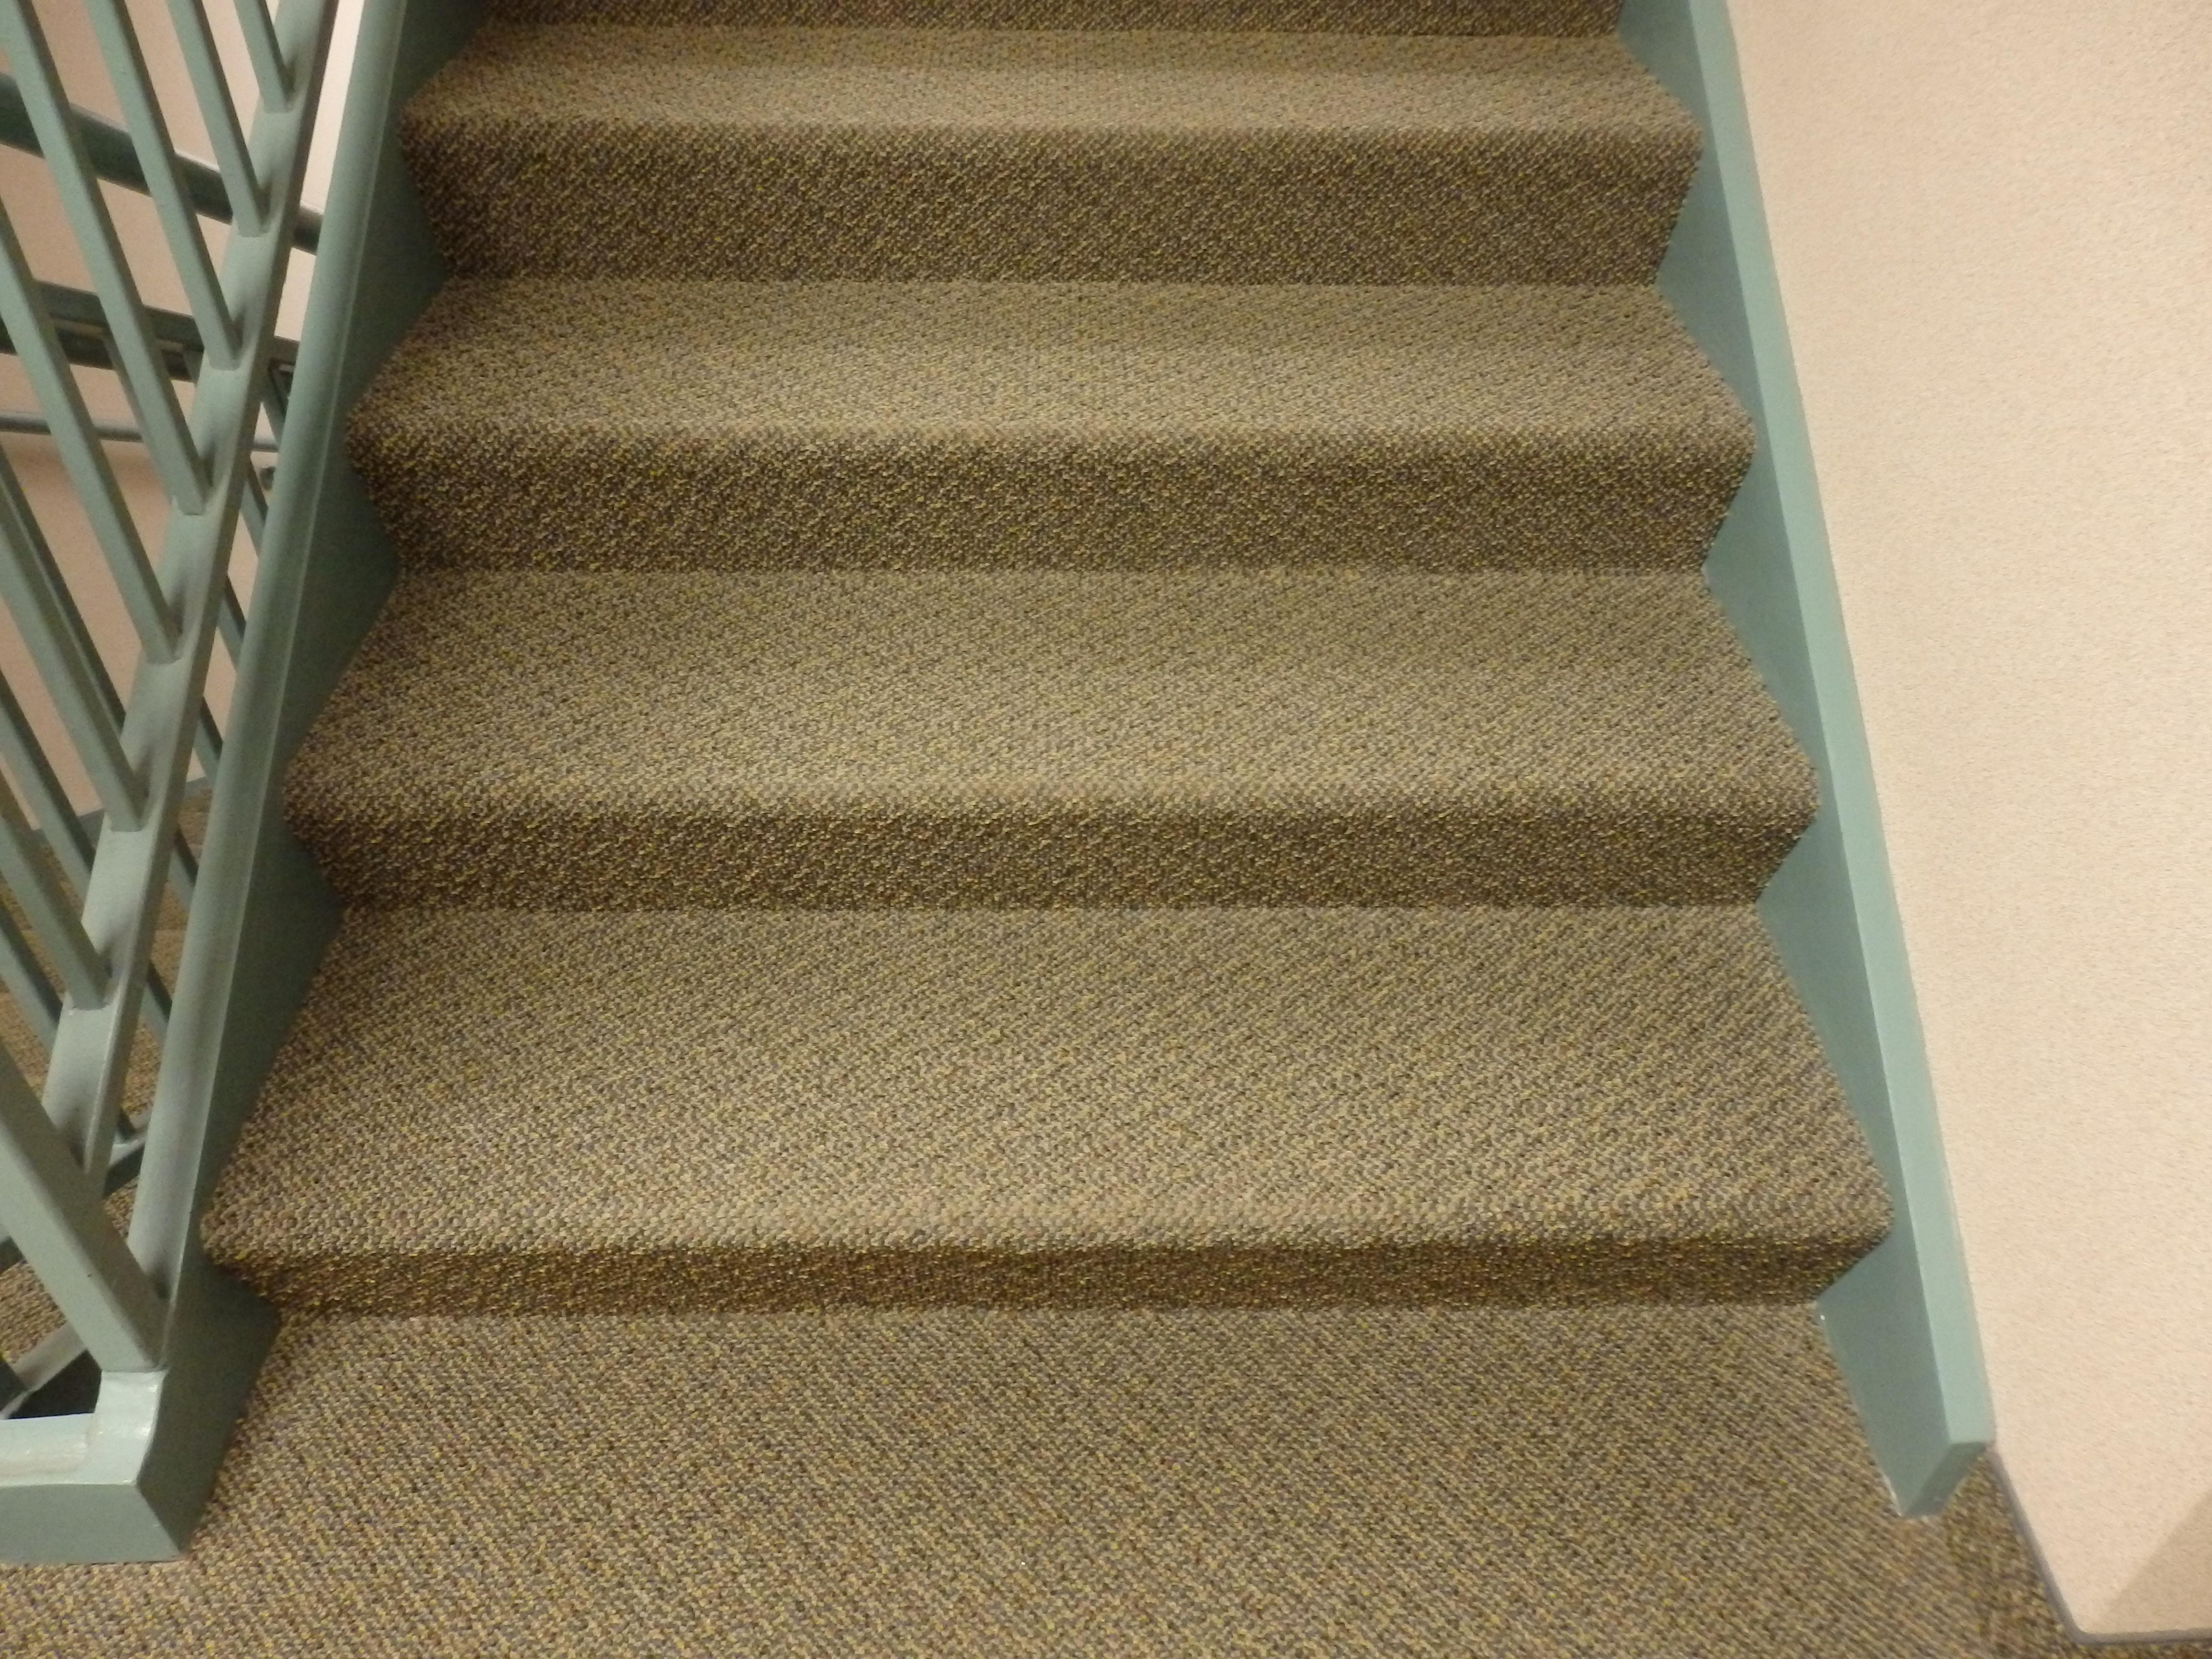stairs_up: (226, 23, 1806, 1403)
